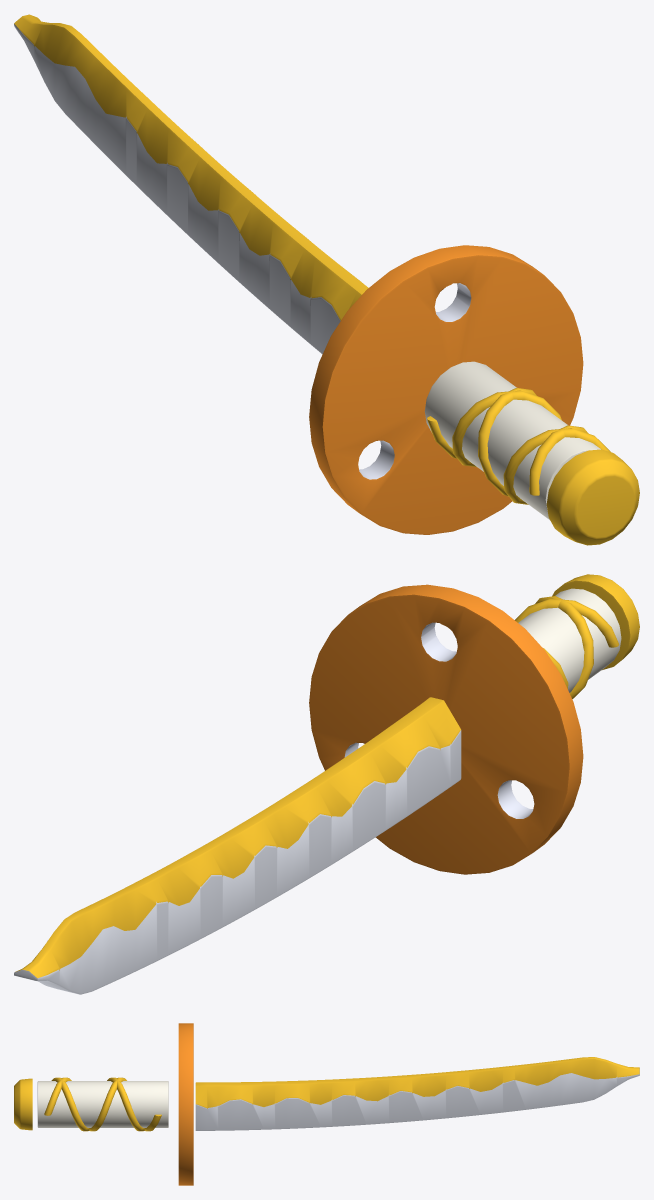
The model's file is Sword_CloudstepKatana.glb.
The picture shows the model from 3 angles, top to bottom: view 1: azimuth 30°, elevation 25°; view 2: azimuth 150°, elevation 25°; view 3: azimuth 270°, elevation 25°; orthographic projection. The views are drawn at different scales.
Parts seen in each view (by area): view 1: Sword_CloudstepKatana; view 2: Sword_CloudstepKatana; view 3: Sword_CloudstepKatana.
Boxes of the visible parts, <box> form: Sword_CloudstepKatana: <box>14,14,639,545</box>; Sword_CloudstepKatana: <box>14,574,639,994</box>; Sword_CloudstepKatana: <box>14,1023,639,1185</box>.
Size of the model in its own units: 0.26 by 0.26 by 1.
1 material, 1 textured.
